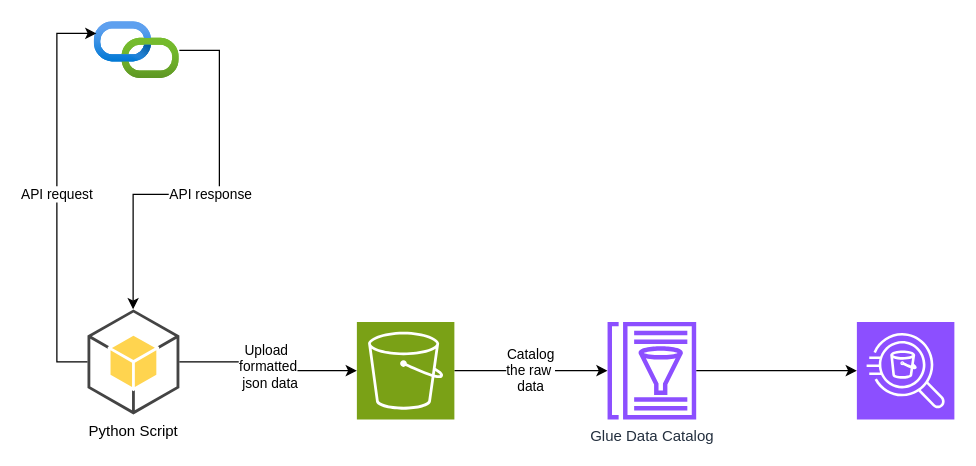
The diagram is 976 pixels wide and 466 high, and some of its shapes have lost their labels. Each missing label, with the centre of its shape:
Athena: point (905, 370)
S3 Bucket: point (405, 370)
